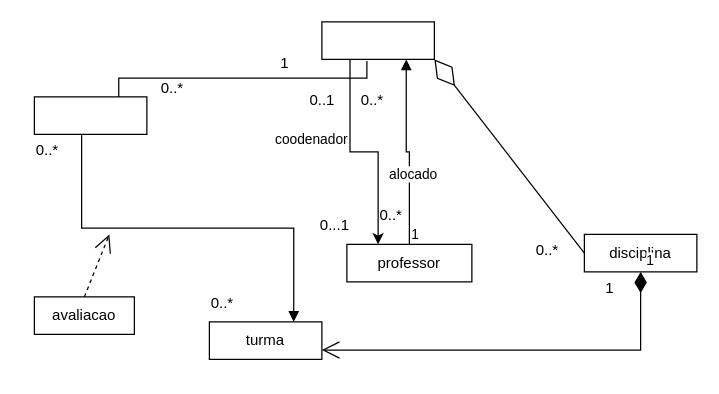
Some shapes in this 719 by 394 pixel diagram are drawn without their labels. Each missing label, with the box of its shape:
aluno: (33, 96, 147, 134)
curso: (321, 21, 434, 59)
